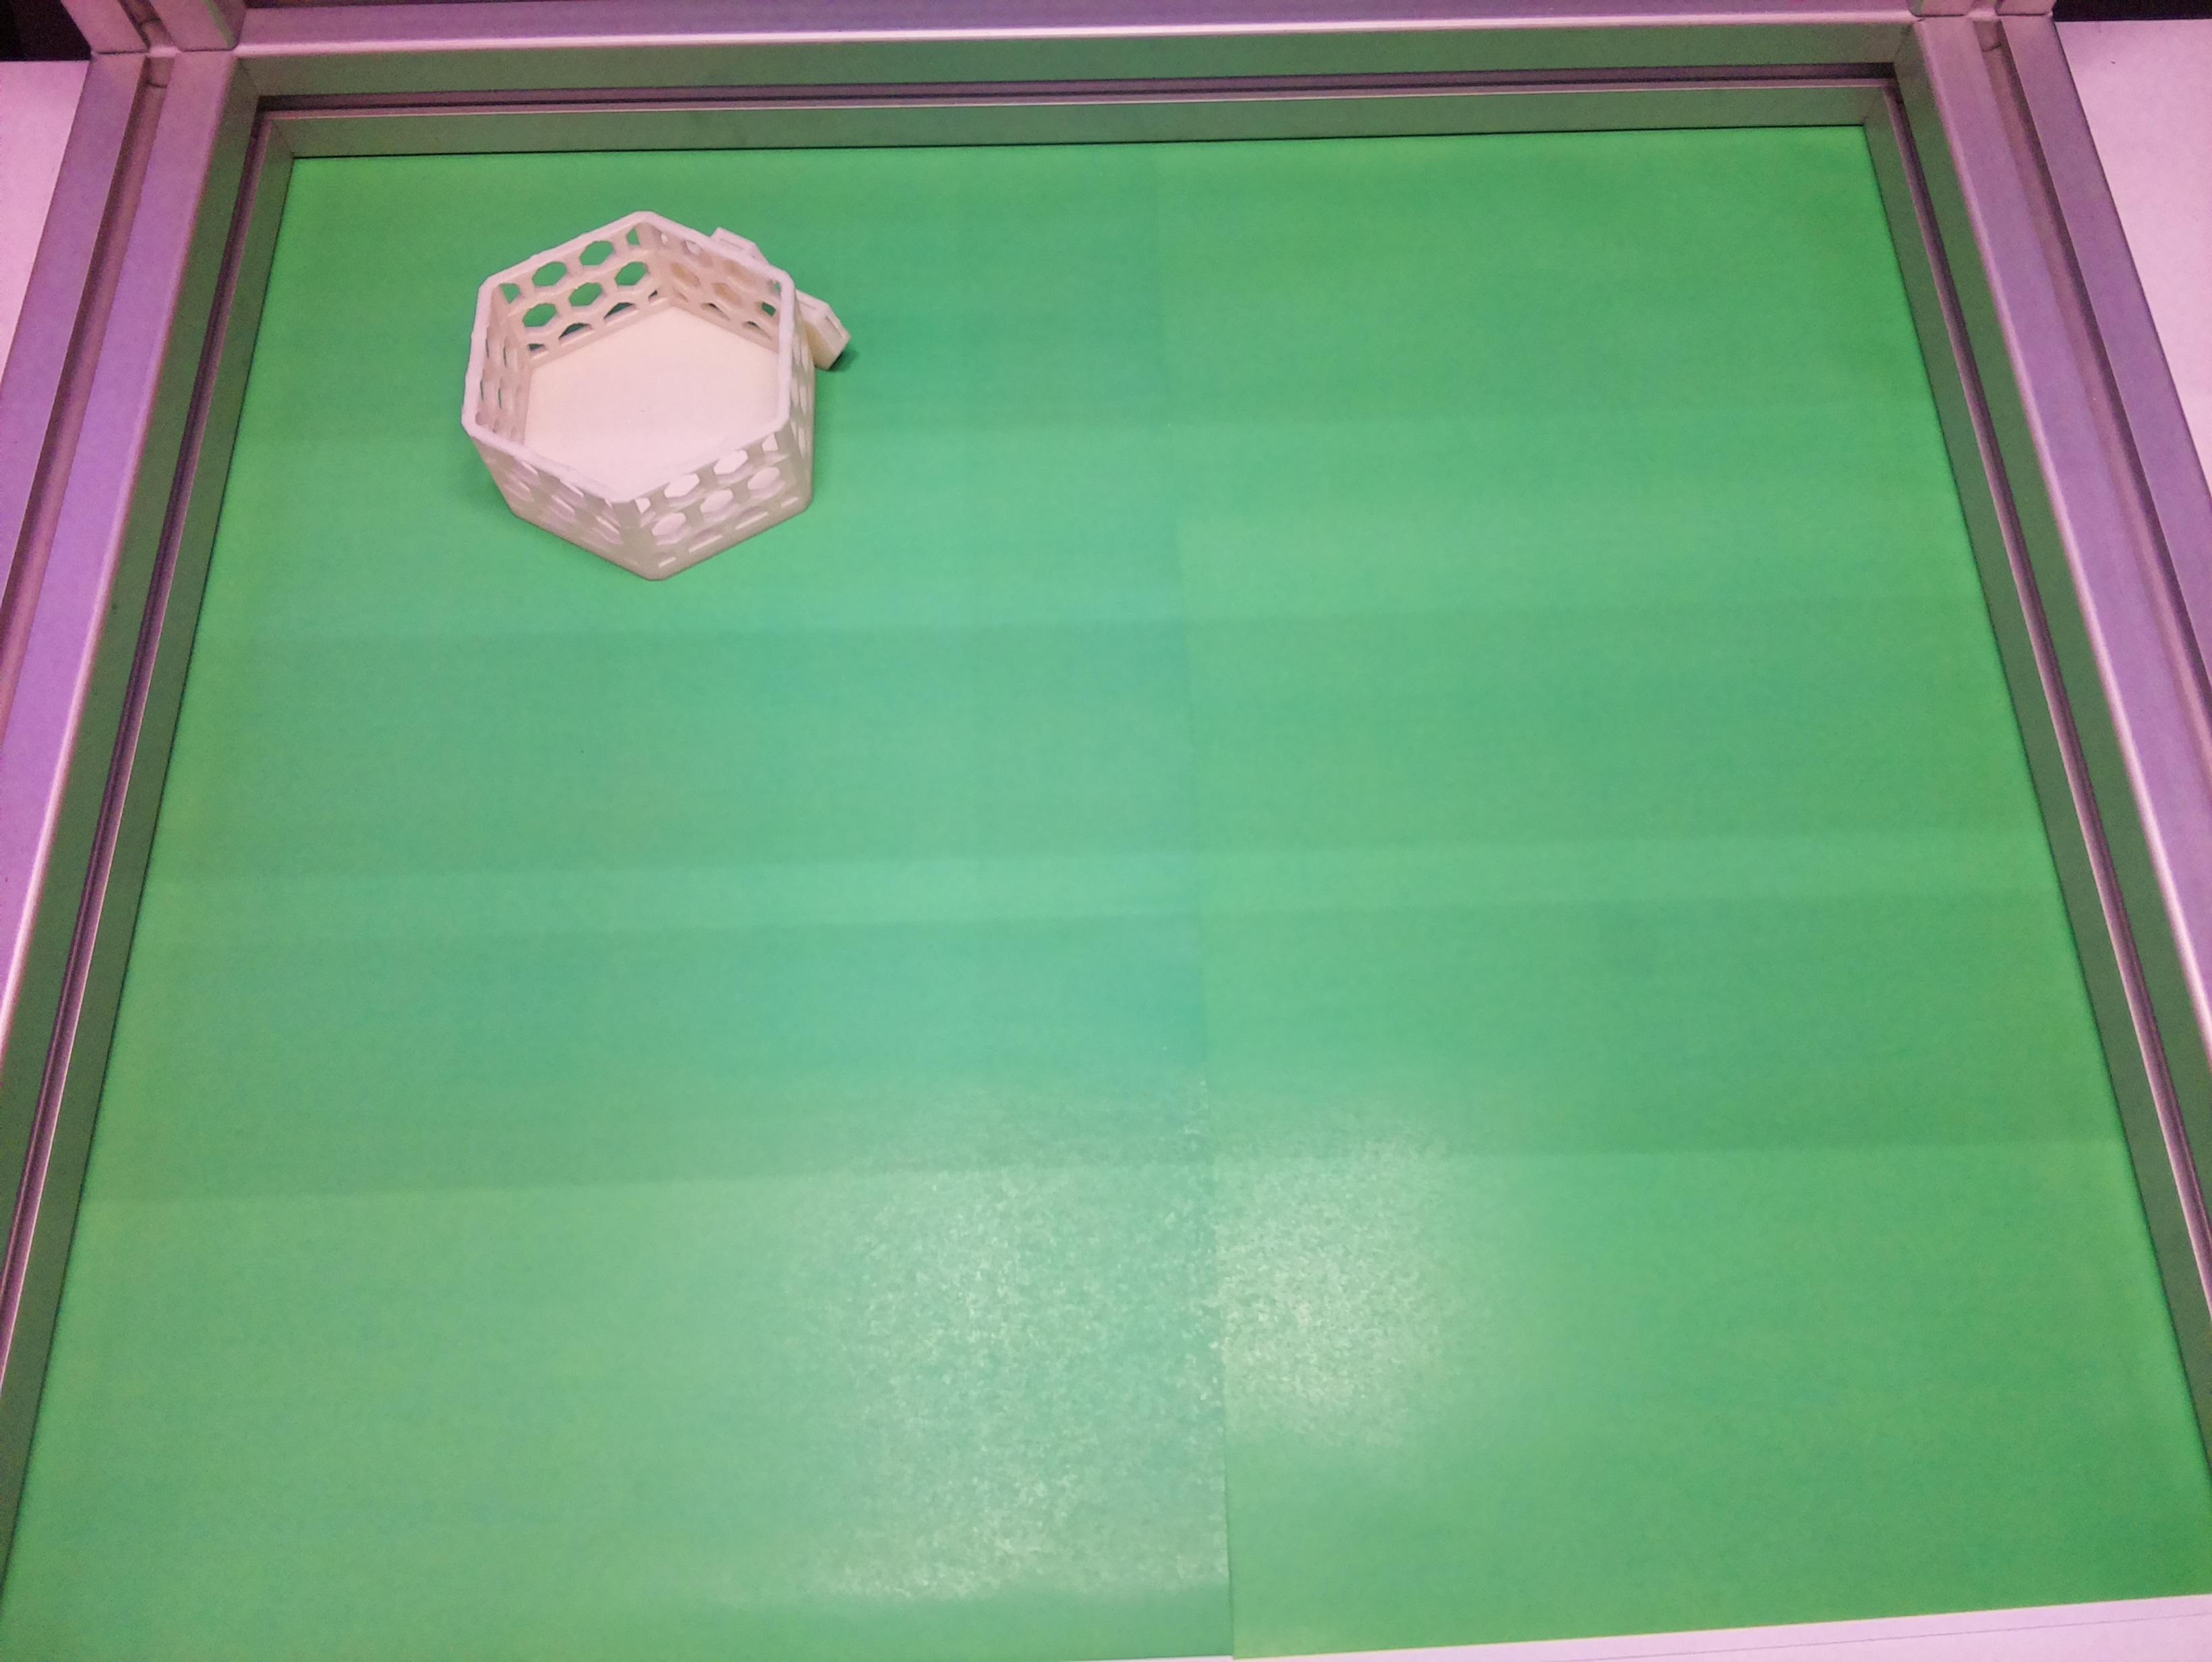bottle_holder: (422, 176, 868, 611)
